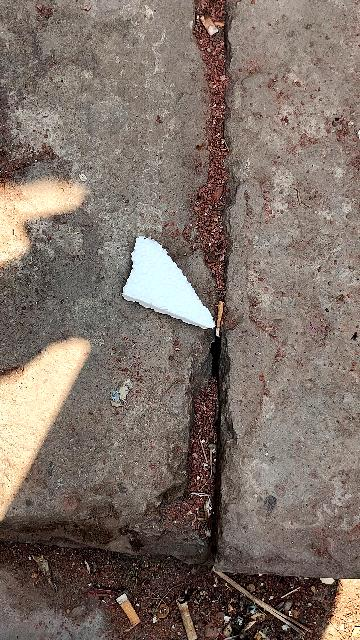cocksheet: (102, 203, 255, 361)
